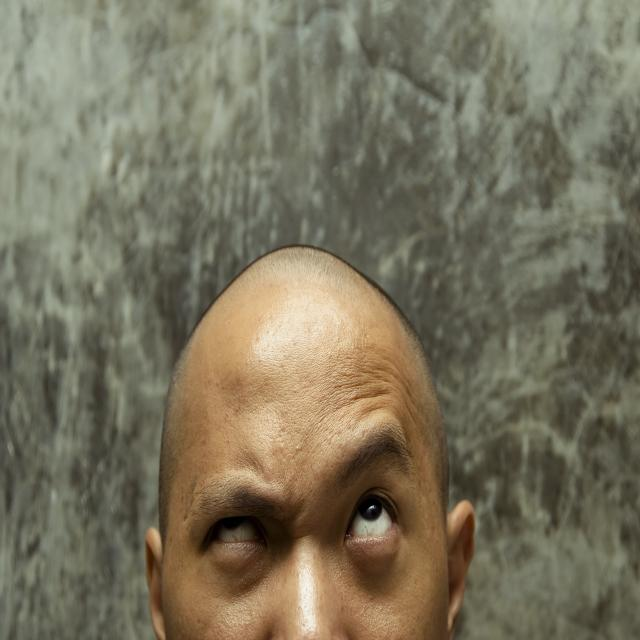no_helmet: (134, 227, 482, 548)
